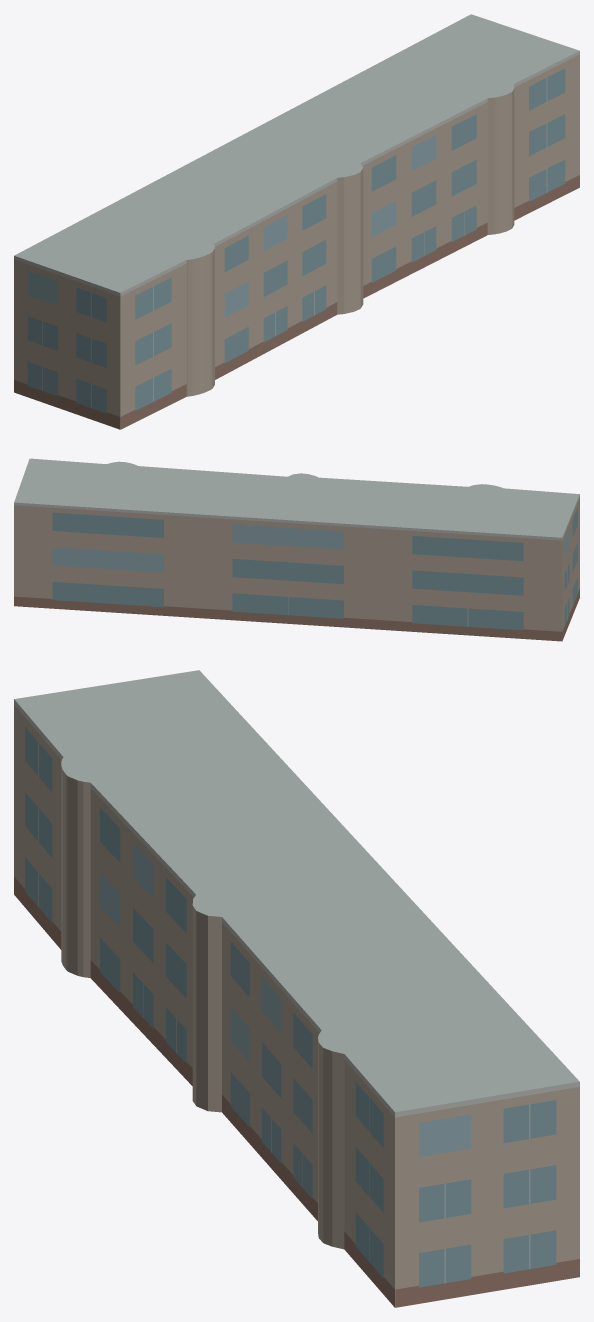
File: survey-upis-32755947.glb
The picture shows the model from 3 angles, top to bottom: view 1: azimuth 30°, elevation 25°; view 2: azimuth 150°, elevation 25°; view 3: azimuth 270°, elevation 25°; orthographic projection. The views are drawn at different scales.
Visible parts, largest first — view 1: survey-upis-32755947.tmp; view 2: survey-upis-32755947.tmp; view 3: survey-upis-32755947.tmp.
Boxes of the visible parts, left/top/right/bottom form: survey-upis-32755947.tmp: left=14, top=14, right=579, bottom=429; survey-upis-32755947.tmp: left=14, top=458, right=579, bottom=641; survey-upis-32755947.tmp: left=14, top=670, right=579, bottom=1307.
Size of the model in its own units: 44.41 by 9.15 by 24.01.
